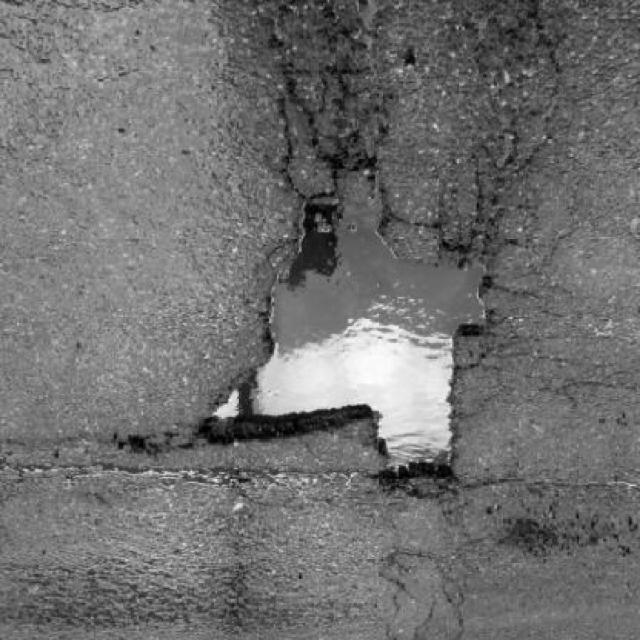pothole: (199, 174, 498, 506)
